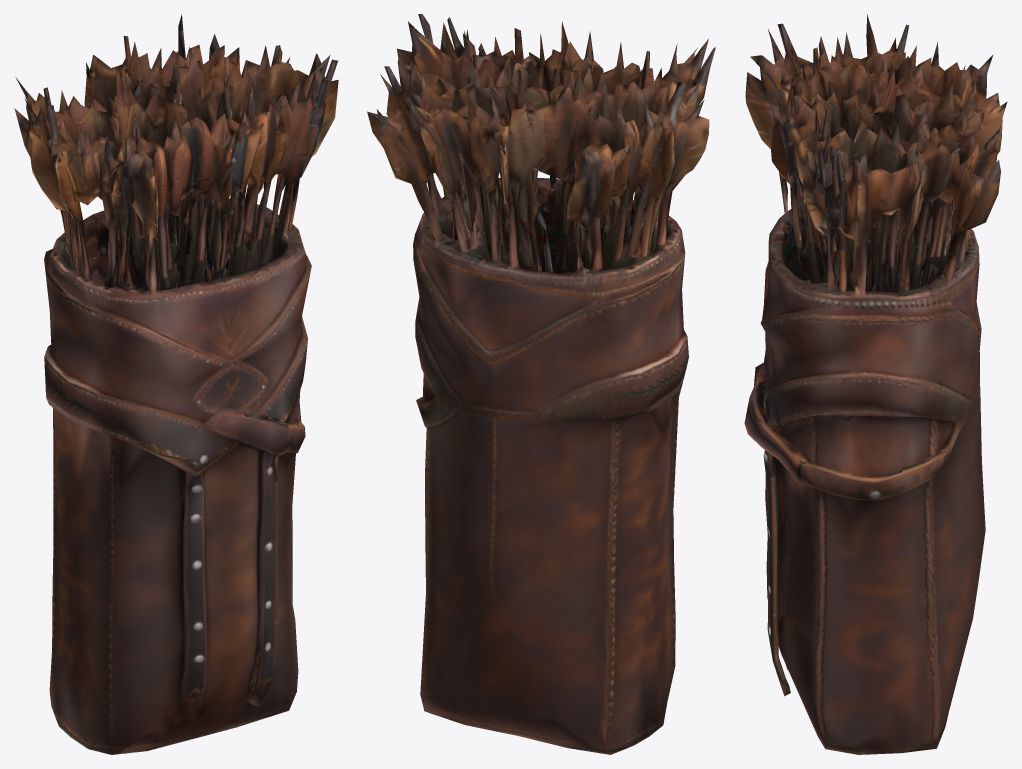
Rendered from Meshy_Model_Import0005.fbx.
3 views of the same model, side by side, from view 1: azimuth 30°, elevation 25°; view 2: azimuth 150°, elevation 25°; view 3: azimuth 270°, elevation 25° (orthographic). The views are drawn at different scales.
Parts seen in each view (by area): view 1: Mesh1.0; view 2: Mesh1.0; view 3: Mesh1.0.
Part boxes in pixels (box(x1,y1,x2,y2)): Mesh1.0: box(14, 14, 338, 754); Mesh1.0: box(367, 14, 715, 754); Mesh1.0: box(744, 14, 1007, 754).
Size of the model in its own units: 95.64 by 200 by 75.39.
1 material, 1 textured.
